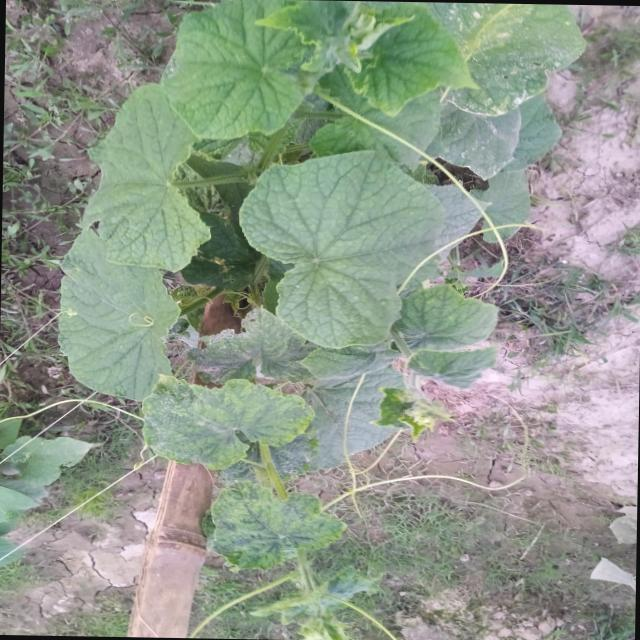cucumber_healthy: (231, 140, 494, 353), (73, 72, 218, 278), (157, 0, 324, 148), (129, 354, 317, 482), (44, 247, 184, 410), (441, 2, 588, 122), (342, 0, 479, 120)
